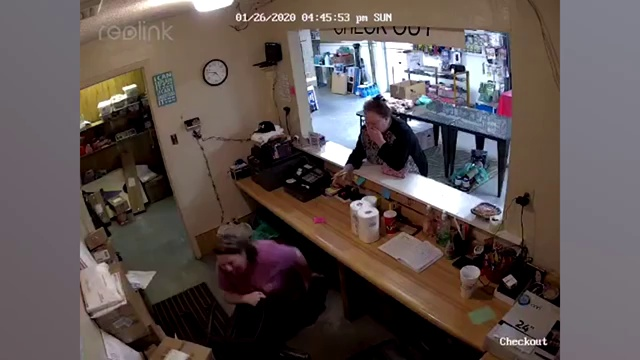face: (218, 255, 246, 274), (366, 113, 385, 137)
